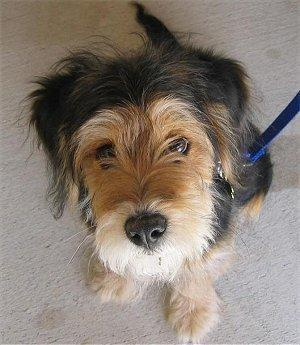wire-haired_fox_terrier: (25, 33, 276, 343)
